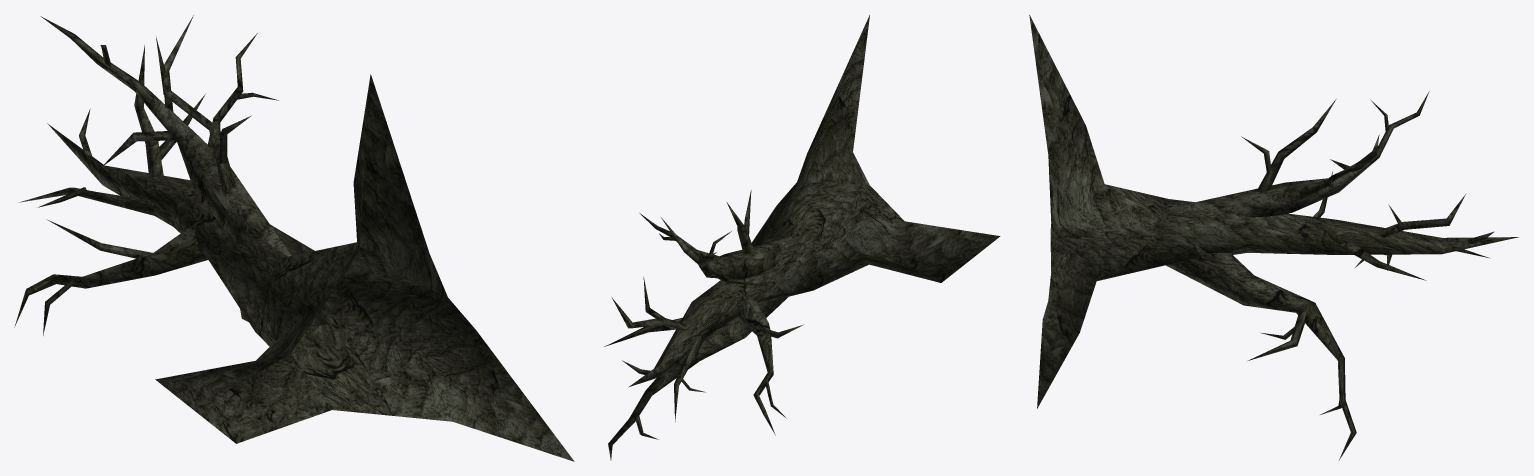
The model's file is MEP_DeadTree_01.fbx.
3 views of the same model, side by side, from view 1: azimuth 30°, elevation 25°; view 2: azimuth 150°, elevation 25°; view 3: azimuth 270°, elevation 25° (orthographic). The views are drawn at different scales.
Visible parts, largest first — view 1: MEP_DeadTree_01; view 2: MEP_DeadTree_01; view 3: MEP_DeadTree_01.
Part boxes in pixels (left/top/right/bottom): MEP_DeadTree_01: left=14, top=15, right=574, bottom=461; MEP_DeadTree_01: left=604, top=15, right=1000, bottom=460; MEP_DeadTree_01: left=1029, top=15, right=1518, bottom=460.
Bounding box in the file's own units: 8.81 × 10.98 × 12.53.
Materials: 1 (1 with a texture image).
